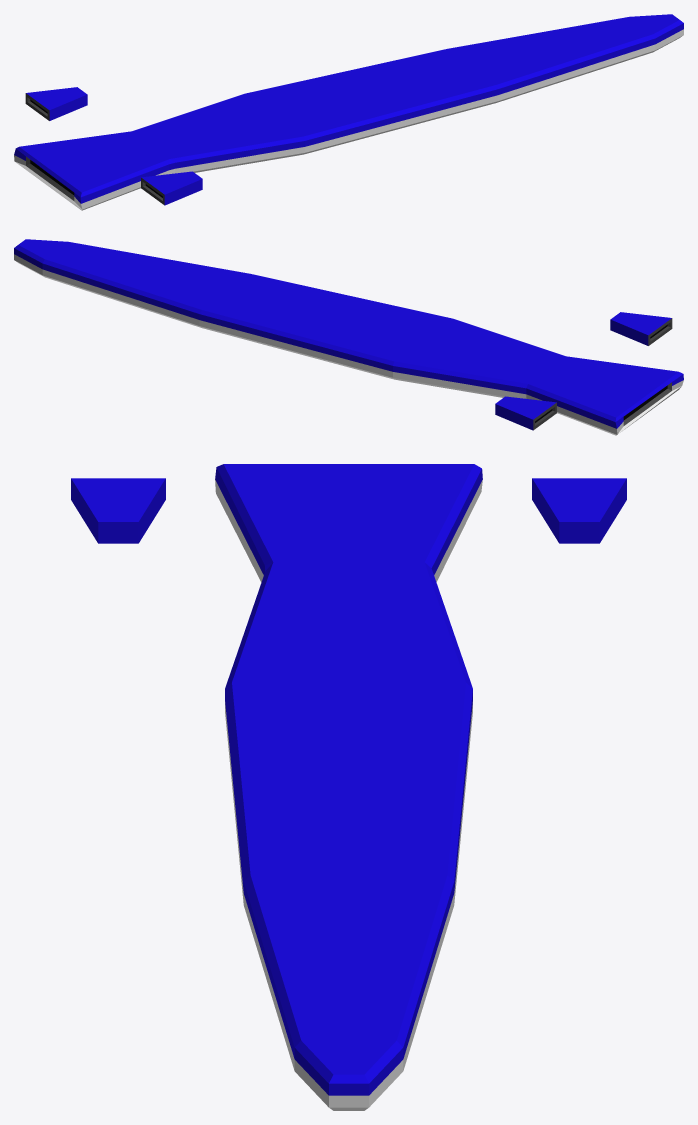
The model's file is Hoverboard1 (new).fbx.
3 views of the same model, one above another, from view 1: azimuth 30°, elevation 25°; view 2: azimuth 150°, elevation 25°; view 3: azimuth 270°, elevation 25° (orthographic). The views are drawn at different scales.
Visible parts, largest first — view 1: Hoverboard 1; view 2: Hoverboard 1; view 3: Hoverboard 1.
Boxes of the visible parts, x1,y1,x2,y2 form: Hoverboard 1: (14,14,683,210); Hoverboard 1: (14,239,683,435); Hoverboard 1: (71,464,626,1110).
Bounding box in the file's own units: 1073 × 53.55 × 409.
